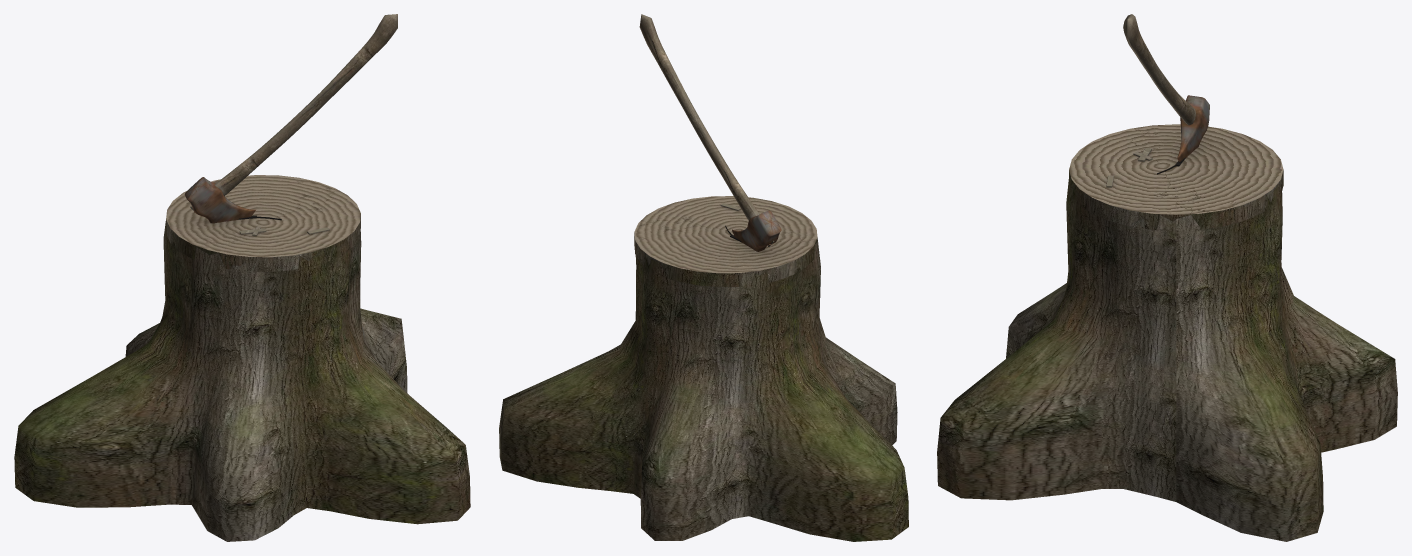
The model's file is stump_axe.glb.
3 views of the same model, side by side, from view 1: azimuth 30°, elevation 25°; view 2: azimuth 150°, elevation 25°; view 3: azimuth 270°, elevation 25° (orthographic). The views are drawn at different scales.
Parts seen in each view (by area): view 1: stump_axe; view 2: stump_axe; view 3: stump_axe.
Part boxes in pixels (x1,y1,x2,y2): stump_axe: (14,14,470,541); stump_axe: (499,14,908,541); stump_axe: (937,14,1397,541).
Bounding box in the file's own units: 1.44 × 1.49 × 1.3.
Materials: 1 (1 with a texture image).
